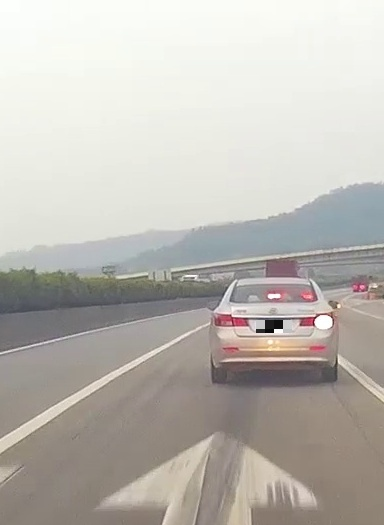L_light: (213, 313, 248, 327)
R_light: (299, 313, 333, 327)
T_light: (268, 293, 281, 298)
day-right: (210, 277, 337, 382)
plate_1: (256, 320, 292, 333)
